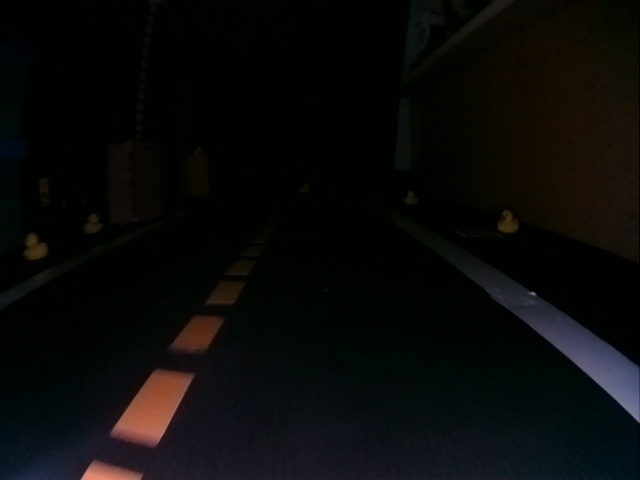Duckie: (23, 233, 46, 260), (497, 210, 519, 231), (84, 216, 103, 233), (405, 191, 414, 202)
